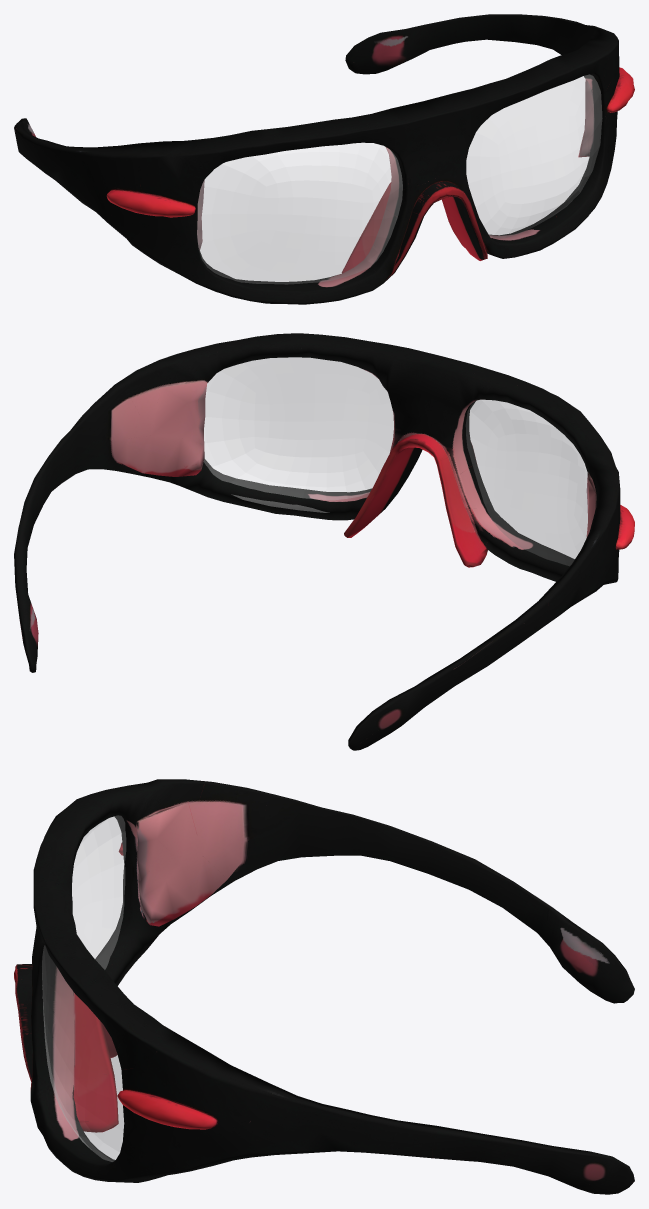
Rendered from frame-001-black-red-sport.glb.
3 renders of one model, top to bottom at view 1: azimuth 30°, elevation 25°; view 2: azimuth 150°, elevation 25°; view 3: azimuth 270°, elevation 25°, orthographic. The views are drawn at different scales.
Visible parts, largest first — view 1: frame_main, lenses, temple_left, temple_right; view 2: frame_main, lenses, temple_right, temple_left; view 3: frame_main, lenses, temple_right, temple_left.
Boxes of the visible parts, x1,y1,x2,y2 form: frame_main: (91, 26, 634, 304); lenses: (197, 74, 602, 284); temple_left: (345, 14, 601, 74); temple_right: (14, 118, 95, 211); frame_main: (93, 333, 634, 584); lenses: (204, 357, 587, 565); temple_right: (348, 525, 609, 750); temple_left: (14, 402, 101, 672); frame_main: (14, 779, 270, 1182); lenses: (42, 815, 125, 1161); temple_right: (249, 788, 634, 1003); temple_left: (247, 1084, 634, 1194).
Size of the model in its own units: 1 by 0.3301 by 0.8691.
2 materials, 1 textured.
